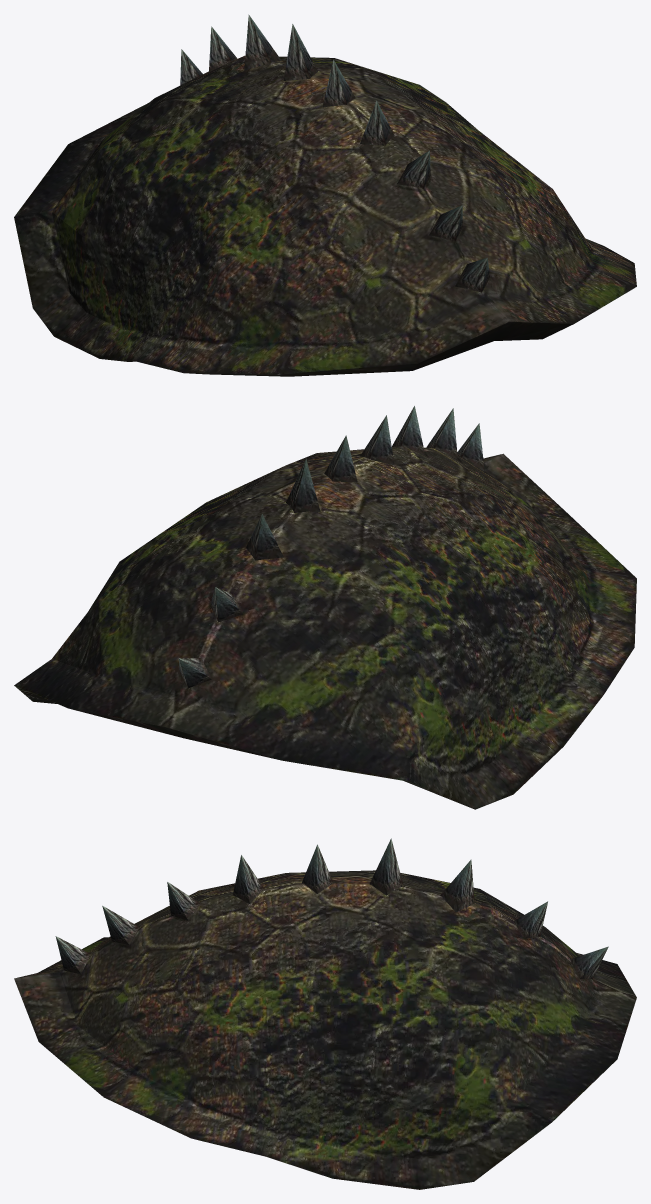
The model's file is ITAT_GIANTTURTLESHELL.glb.
The picture shows the model from 3 angles, top to bottom: view 1: azimuth 30°, elevation 25°; view 2: azimuth 150°, elevation 25°; view 3: azimuth 270°, elevation 25°; orthographic projection. The views are drawn at different scales.
Visible parts, largest first — view 1: ITAT_GIANTTURTLESHELL; view 2: ITAT_GIANTTURTLESHELL; view 3: ITAT_GIANTTURTLESHELL.
Boxes of the visible parts, x1,y1,x2,y2 form: ITAT_GIANTTURTLESHELL: (14,14,636,376); ITAT_GIANTTURTLESHELL: (14,406,636,809); ITAT_GIANTTURTLESHELL: (14,838,636,1189).
Bounding box in the file's own units: 1.07 × 0.5946 × 1.34.
Materials: 1 (1 with a texture image).
